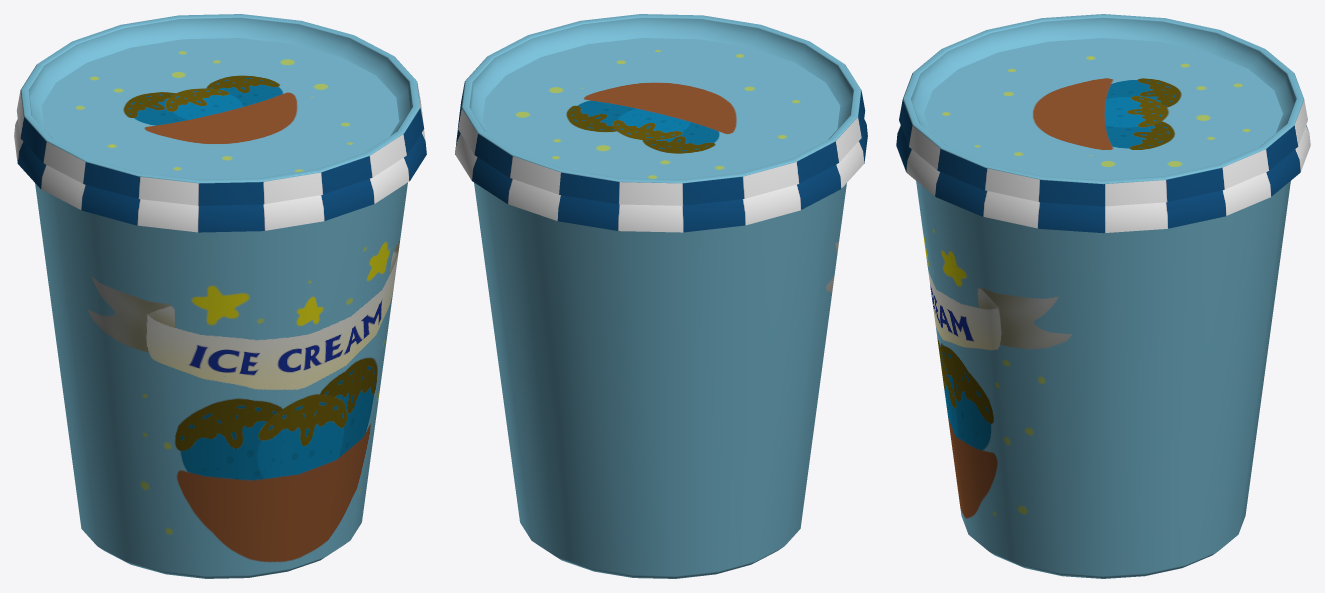
Rendered from Ice Cream.fbx.
3 renders of one model, left to right at view 1: azimuth 30°, elevation 25°; view 2: azimuth 150°, elevation 25°; view 3: azimuth 270°, elevation 25°, orthographic.
Visible parts, largest first — view 1: Ice_Cream; view 2: Ice_Cream; view 3: Ice_Cream.
Boxes of the visible parts, x1,y1,x2,y2 form: Ice_Cream: (14, 14, 426, 578); Ice_Cream: (455, 14, 867, 578); Ice_Cream: (896, 14, 1310, 578).
Size of the model in its own units: 0.9781 by 1.1 by 0.9781.
Materials: 1 (1 with a texture image).
